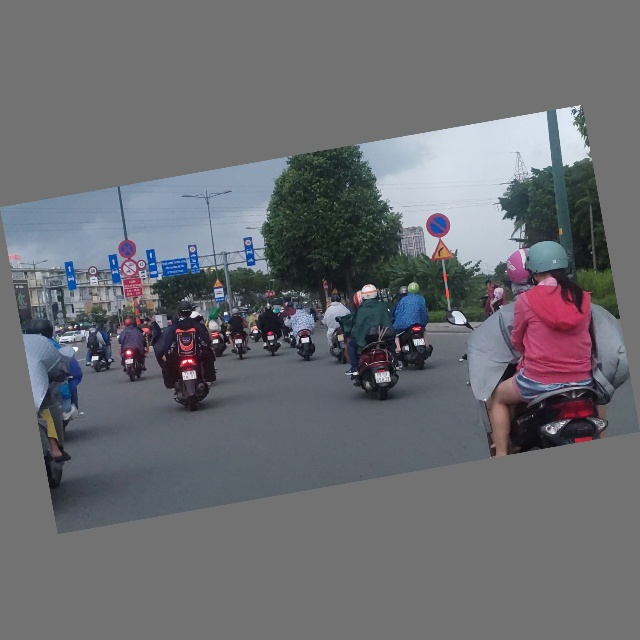I.434a: (213, 288, 226, 303)
P.111: (119, 258, 140, 280)
P.127*50: (244, 239, 252, 248), (188, 246, 197, 254)
P.127*80: (87, 265, 98, 277)
P.130: (116, 238, 138, 260)
P.131a: (424, 212, 452, 241)
S.505a*Xe tai va cong: (139, 270, 148, 280)
W.201b: (428, 238, 454, 263), (211, 278, 224, 289)
